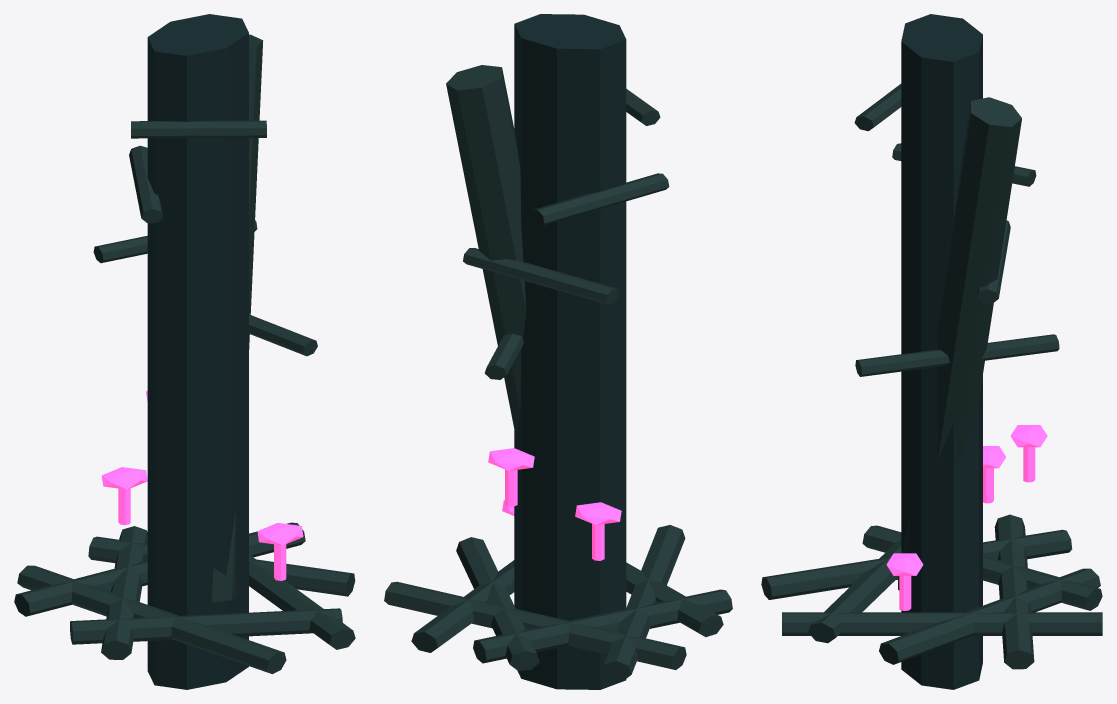
The model's file is df_v2_ancient_tree_blocker_b.glb.
3 views of the same model, side by side, from view 1: azimuth 30°, elevation 25°; view 2: azimuth 150°, elevation 25°; view 3: azimuth 270°, elevation 25° (orthographic). The views are drawn at different scales.
Parts seen in each view (by area): view 1: massive_twisted_trunk, giant_surface_root_4, giant_surface_root_5, second_twist_trunk, giant_surface_root_3, giant_surface_root_2, giant_surface_root_0, giant_surface_root_1, crooked_branch_3, crooked_branch_2, crooked_branch_0, crooked_branch_1 (+2 smaller); view 2: massive_twisted_trunk, second_twist_trunk, giant_surface_root_2, giant_surface_root_3, giant_surface_root_4, giant_surface_root_1, crooked_branch_1, crooked_branch_2, giant_surface_root_0, giant_surface_root_5, crooked_branch_0, trunk_fungus_2_cap (+2 smaller); view 3: massive_twisted_trunk, second_twist_trunk, giant_surface_root_0, giant_surface_root_1, giant_surface_root_4, giant_surface_root_2, crooked_branch_0, giant_surface_root_3, giant_surface_root_5, crooked_branch_3, crooked_branch_1, trunk_fungus_0_cap (+2 smaller).
Boxes of the visible parts, x1,y1,x2,y2 form: massive_twisted_trunk: [147, 14, 248, 689]; giant_surface_root_4: [17, 565, 286, 674]; giant_surface_root_5: [70, 608, 342, 644]; second_twist_trunk: [206, 34, 263, 602]; giant_surface_root_3: [101, 526, 147, 659]; giant_surface_root_2: [14, 522, 305, 616]; giant_surface_root_0: [249, 554, 355, 649]; giant_surface_root_1: [88, 536, 355, 596]; crooked_branch_3: [131, 120, 266, 138]; crooked_branch_2: [129, 145, 163, 223]; crooked_branch_0: [249, 314, 317, 356]; crooked_branch_1: [93, 220, 257, 263]; massive_twisted_trunk: [514, 14, 626, 689]; second_twist_trunk: [446, 65, 526, 437]; giant_surface_root_2: [384, 581, 686, 669]; giant_surface_root_3: [473, 589, 732, 663]; giant_surface_root_4: [601, 525, 685, 681]; giant_surface_root_1: [456, 537, 539, 670]; crooked_branch_1: [463, 248, 618, 305]; crooked_branch_2: [531, 173, 669, 226]; giant_surface_root_0: [411, 560, 514, 652]; giant_surface_root_5: [626, 562, 723, 637]; crooked_branch_0: [484, 333, 523, 379]; trunk_fungus_2_cap: [488, 448, 534, 470]; massive_twisted_trunk: [901, 14, 982, 689]; second_twist_trunk: [898, 97, 1021, 590]; giant_surface_root_0: [782, 612, 1102, 635]; giant_surface_root_1: [879, 568, 1100, 664]; giant_surface_root_4: [761, 529, 1072, 599]; giant_surface_root_2: [994, 514, 1034, 669]; crooked_branch_0: [855, 334, 1059, 376]; giant_surface_root_3: [862, 525, 1102, 610]; giant_surface_root_5: [808, 541, 901, 643]; crooked_branch_3: [854, 84, 901, 131]; crooked_branch_1: [977, 220, 1010, 303]; trunk_fungus_0_cap: [886, 553, 923, 575].
Size of the model in its own units: 1.55 by 3.35 by 1.65.
